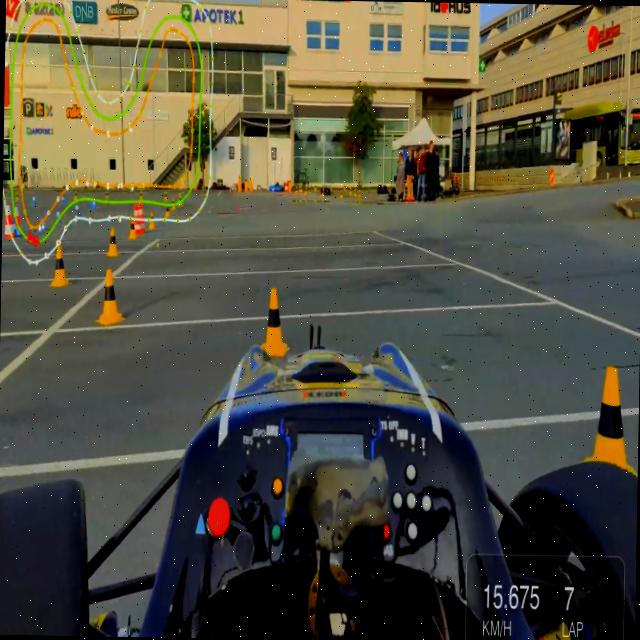large_orange_cone: (130, 202, 142, 235), (3, 202, 13, 238), (12, 204, 22, 236), (138, 202, 146, 232)
yellow_cone: (583, 366, 639, 486), (258, 286, 290, 356), (96, 268, 124, 326), (50, 242, 70, 288), (107, 227, 119, 256), (127, 218, 137, 240), (148, 210, 155, 230)
